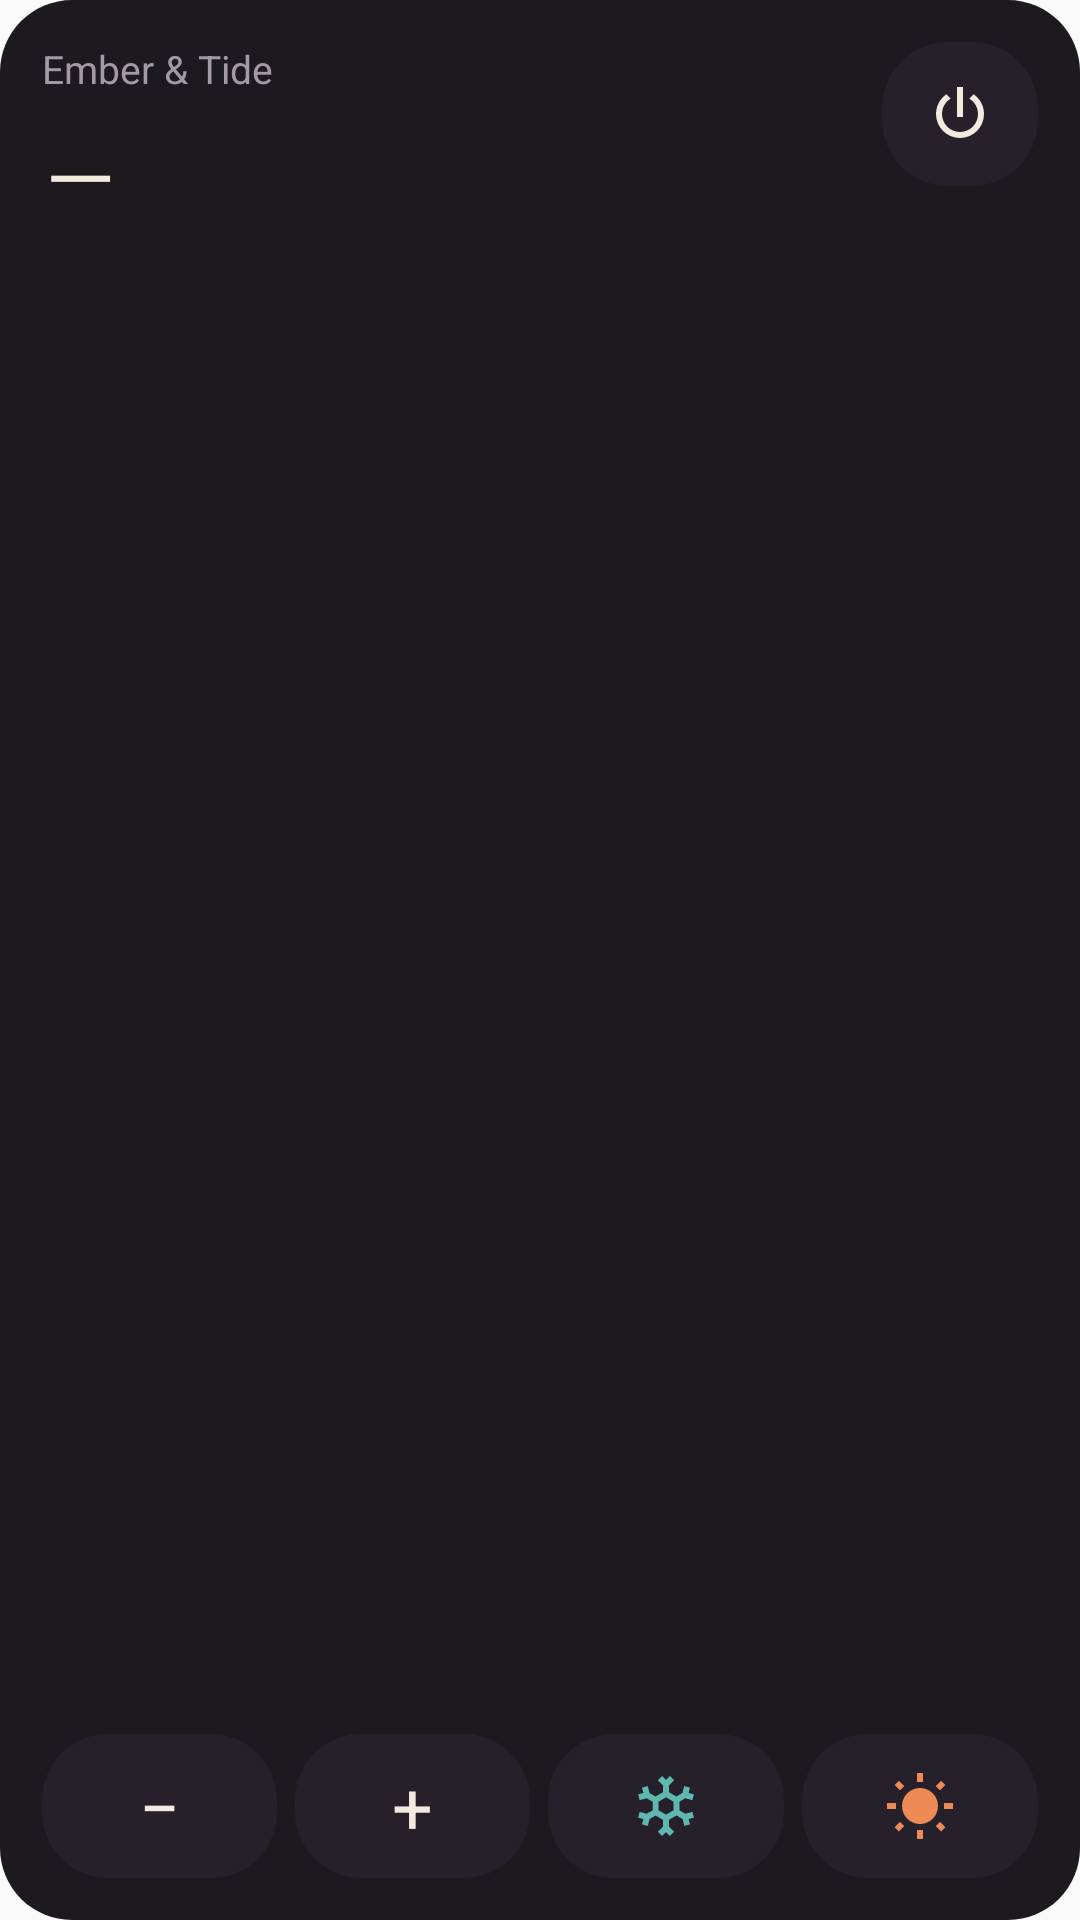

Icons on this 1080px×1920px Android screen, each with its box as (x1, y1, x2, y2):
sun: (802, 1734, 1038, 1878)
Turn your side on or off: (882, 42, 1038, 186)
